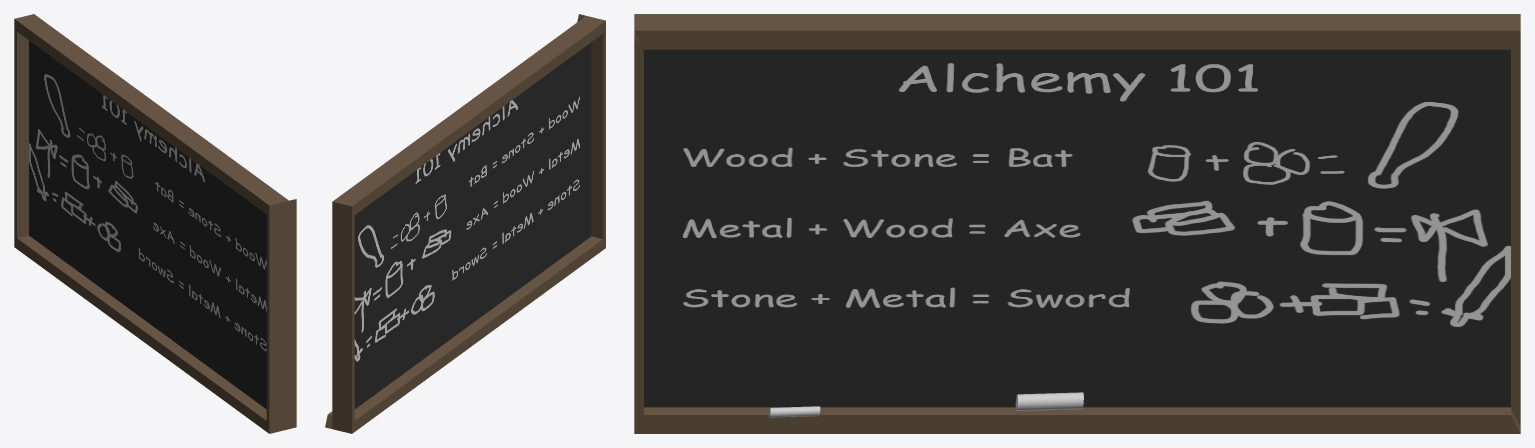
File: Blackboard.fbx
The picture shows the model from 3 angles, left to right: view 1: azimuth 30°, elevation 25°; view 2: azimuth 150°, elevation 25°; view 3: azimuth 270°, elevation 25°; orthographic projection. The views are drawn at different scales.
Visible parts, largest first — view 1: pasted__pCube61; view 2: pasted__pCube61; view 3: pasted__pCube61.
Boxes of the visible parts, left/top/right/bottom form: pasted__pCube61: left=14, top=14, right=296, bottom=433; pasted__pCube61: left=325, top=14, right=605, bottom=433; pasted__pCube61: left=634, top=14, right=1520, bottom=433.
Bounding box in the file's own units: 0.6544 × 3.58 × 7.24.
Materials: 3 (1 with a texture image).
